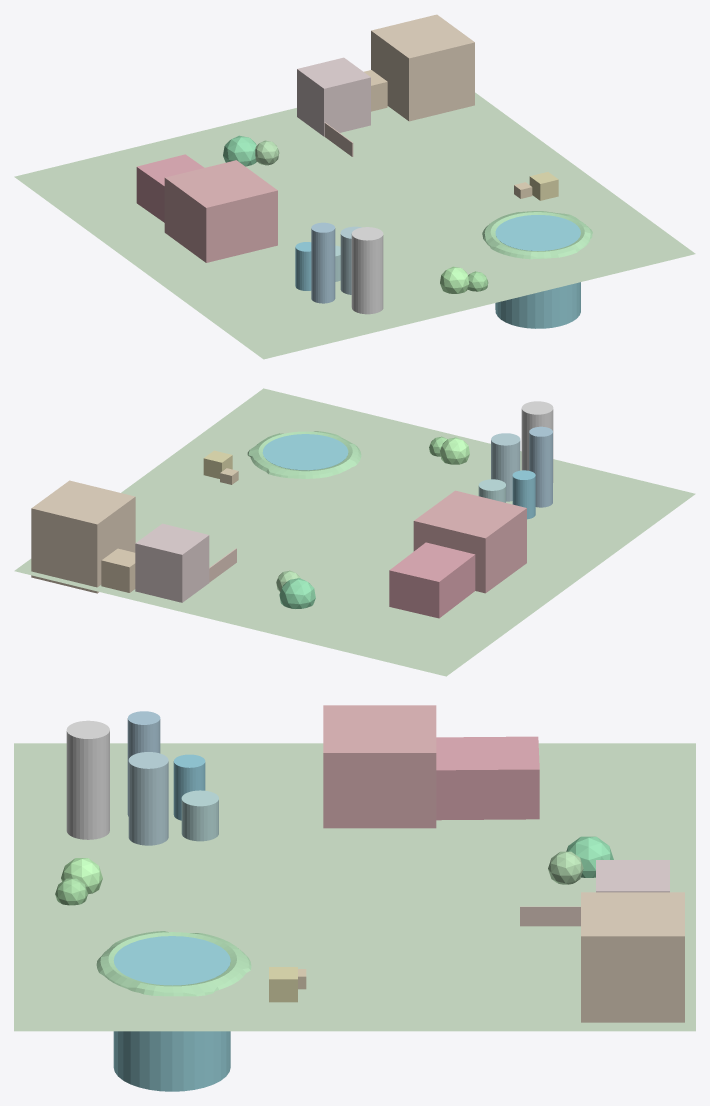
The picture shows the model from 3 angles, top to bottom: view 1: azimuth 30°, elevation 25°; view 2: azimuth 150°, elevation 25°; view 3: azimuth 270°, elevation 25°; orthographic projection. The views are drawn at different scales.
Visible parts, largest first — view 1: Plane, Barn, Cube.005, Pond, Cube.003, Cylinder, Cube.002, Cylinder.002, Torus, Cylinder.003, Cylinder.004, Icosphere (+3 smaller); view 2: Plane, Cube.005, Barn, Cube.002, Cube.003, Pond, Torus, Cylinder.002, Cylinder.003, Cube.004, Cylinder, Cylinder.004 (+4 smaller); view 3: Plane, Barn, Cube.005, Pond, Cube.002, Cylinder, Cylinder.003, Torus, Cube.003, Cylinder.005, Cylinder.002, Cylinder.004 (+6 smaller).
Boxes of the visible parts, bbox=[...] form: Plane: bbox=[14, 92, 695, 359]; Barn: bbox=[164, 160, 277, 262]; Cube.005: bbox=[371, 14, 474, 121]; Pond: bbox=[495, 215, 580, 328]; Cube.003: bbox=[297, 57, 370, 136]; Cylinder: bbox=[351, 227, 383, 314]; Cube.002: bbox=[136, 154, 204, 222]; Cylinder.002: bbox=[311, 222, 335, 303]; Torus: bbox=[482, 211, 592, 259]; Cylinder.003: bbox=[340, 226, 361, 294]; Cylinder.004: bbox=[295, 242, 311, 290]; Icosphere: bbox=[223, 135, 256, 166]; Plane: bbox=[14, 388, 695, 676]; Cube.005: bbox=[31, 480, 135, 593]; Barn: bbox=[413, 490, 526, 593]; Cube.002: bbox=[389, 542, 475, 618]; Cube.003: bbox=[135, 523, 209, 602]; Pond: bbox=[262, 434, 348, 470]; Torus: bbox=[247, 431, 361, 478]; Cylinder.002: bbox=[529, 426, 552, 507]; Cylinder.003: bbox=[491, 433, 520, 501]; Cube.004: bbox=[101, 548, 135, 592]; Cylinder: bbox=[521, 401, 553, 482]; Cylinder.004: bbox=[512, 470, 535, 519]; Plane: bbox=[14, 743, 695, 1031]; Barn: bbox=[323, 705, 436, 828]; Cube.005: bbox=[581, 892, 684, 1022]; Pond: bbox=[113, 936, 230, 1091]; Cube.002: bbox=[436, 736, 539, 820]; Cylinder: bbox=[66, 720, 109, 839]; Cylinder.003: bbox=[128, 752, 168, 845]; Torus: bbox=[96, 931, 251, 996]; Cube.003: bbox=[596, 860, 669, 892]; Cylinder.005: bbox=[181, 790, 218, 841]; Cylinder.002: bbox=[127, 711, 160, 816]; Cylinder.004: bbox=[173, 754, 205, 820].
Size of the model in its own units: 677 by 222 by 677.
